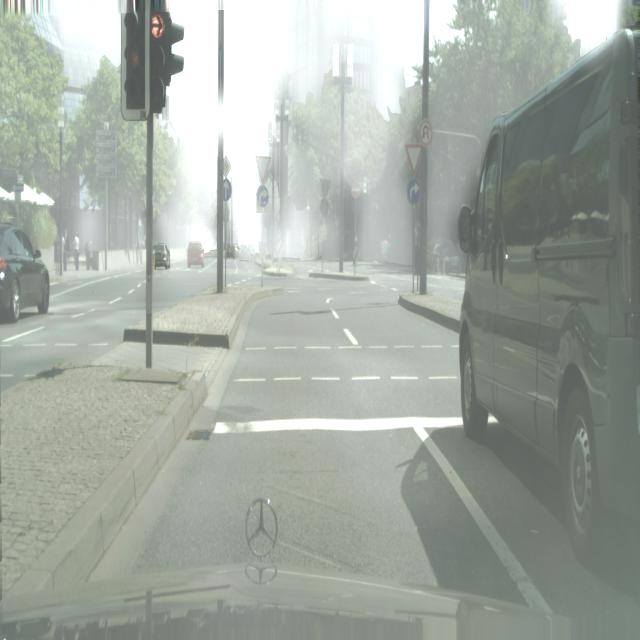person: (73, 233, 80, 271), (85, 240, 91, 271)
truck: (457, 28, 639, 550), (0, 226, 50, 322), (152, 241, 170, 270), (187, 241, 205, 268), (238, 242, 255, 261)
